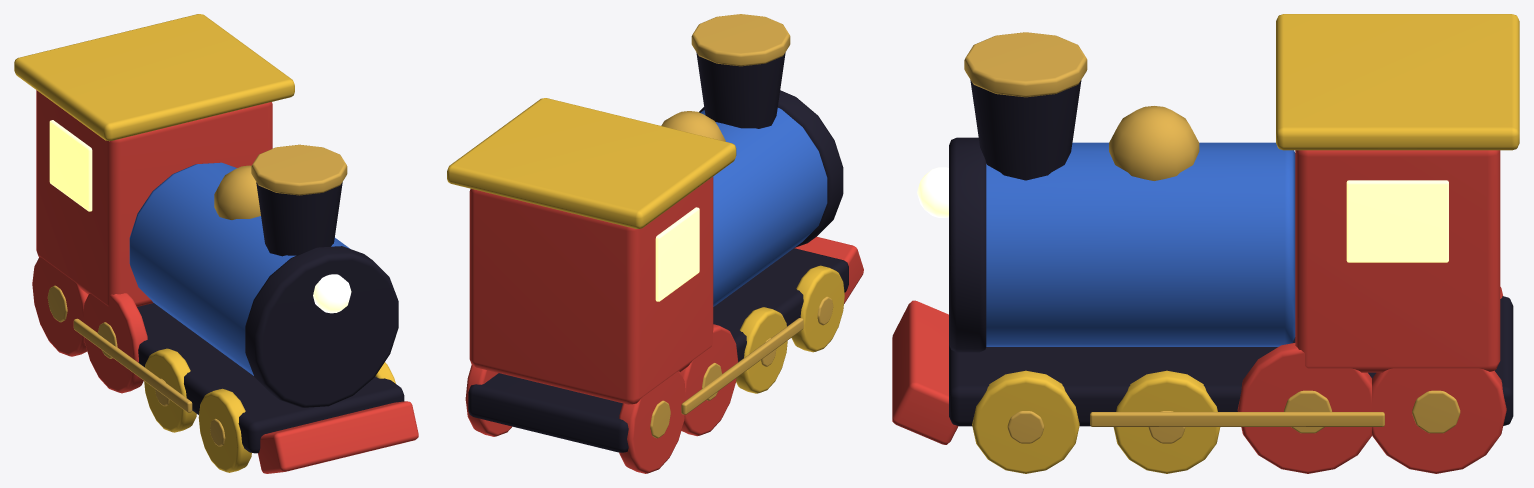
Rendered from toy_train_loco.glb.
3 views of the same model, side by side, from view 1: azimuth 30°, elevation 25°; view 2: azimuth 150°, elevation 25°; view 3: azimuth 270°, elevation 25° (orthographic). The views are drawn at different scales.
Visible parts, largest first — view 1: toy_train_loco; view 2: toy_train_loco; view 3: toy_train_loco.
Boxes of the visible parts, left/top/right/bottom form: toy_train_loco: left=14, top=14, right=418, bottom=473; toy_train_loco: left=447, top=14, right=863, bottom=473; toy_train_loco: left=892, top=14, right=1519, bottom=473.
Bounding box in the file's own units: 2.2 × 3.17 × 4.89.
